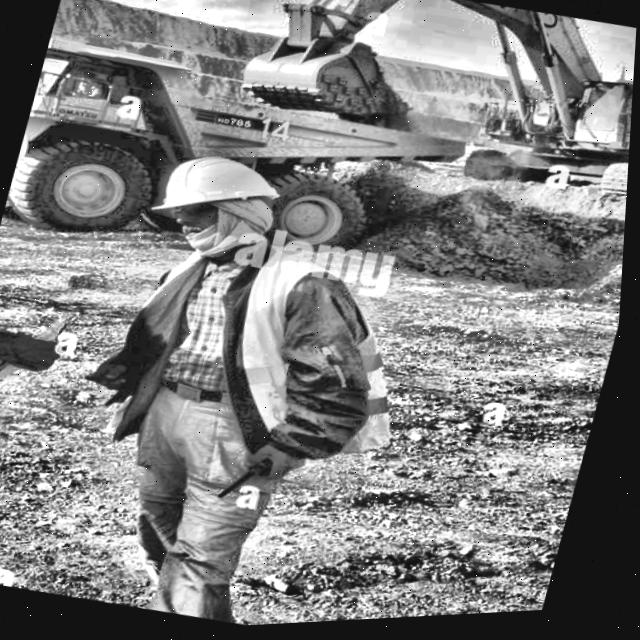dump_truck: (4, 2, 502, 298)
excavator: (197, 0, 640, 185)
